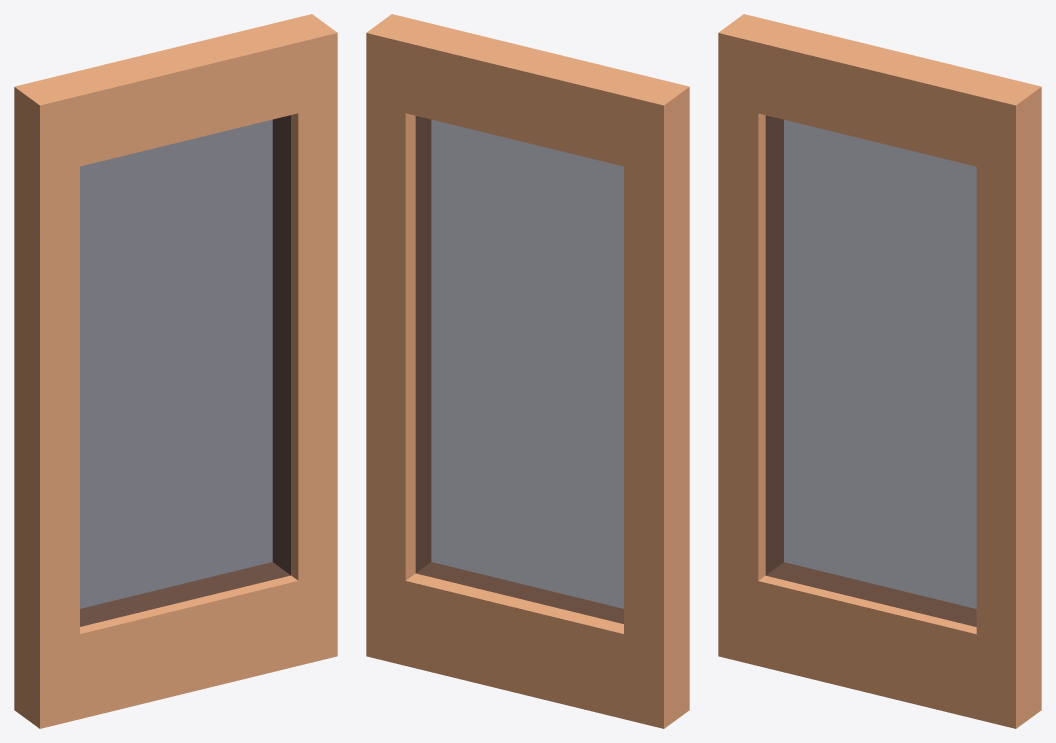
File: BeigeWindowLarge.glb
3 views of the same model, side by side, from view 1: azimuth 30°, elevation 25°; view 2: azimuth 150°, elevation 25°; view 3: azimuth 330°, elevation 25° (orthographic).
Parts seen in each view (by area): view 1: wall_largeWindow_beige; view 2: wall_largeWindow_beige; view 3: wall_largeWindow_beige.
Part boxes in pixels (box(x1,y1,x2,y2)): wall_largeWindow_beige: box(14, 14, 337, 728); wall_largeWindow_beige: box(366, 14, 689, 728); wall_largeWindow_beige: box(718, 14, 1041, 728).
Size of what is drawn, in the model's own units: 2 by 4 by 0.3.
2 materials, 2 textured.
